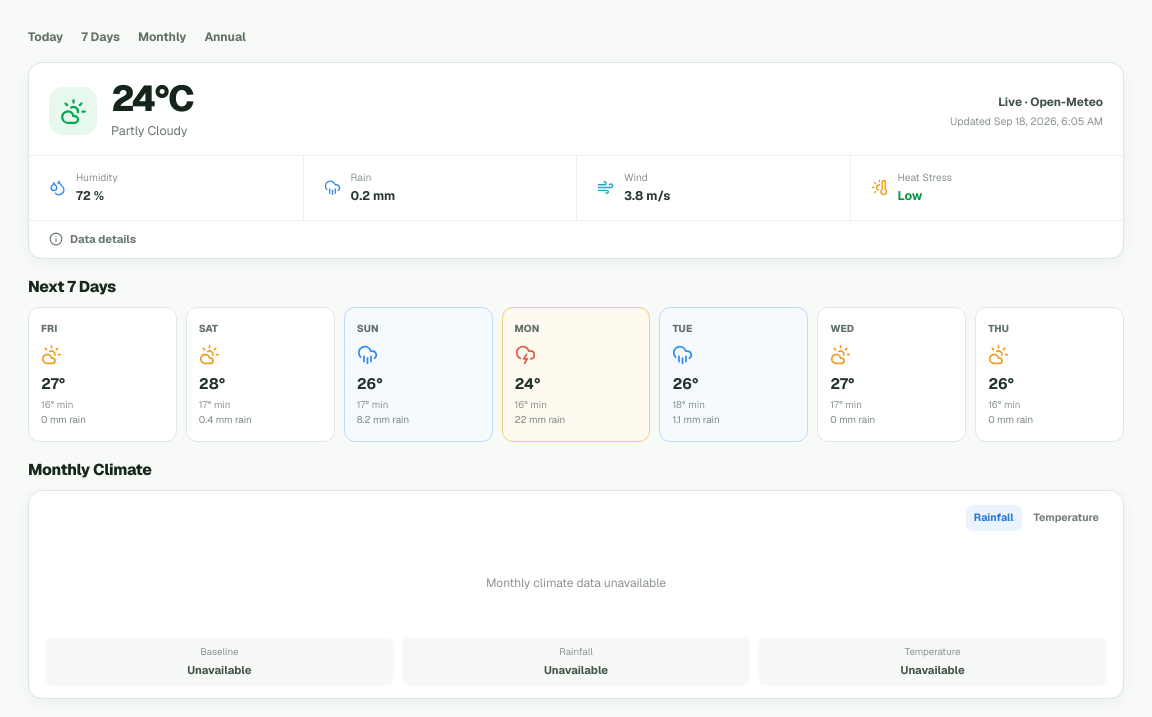
ClimateOverview › renders current provider values, WMO condition, and provenance
Expected: the heading "24°C" is shown, 111,81 -> 193,117
Expected: the text "Partly Cloudy" is shown, 111,122 -> 193,141
Click the heading "Data details" at x=92, y=239, box 49,232 -> 136,246
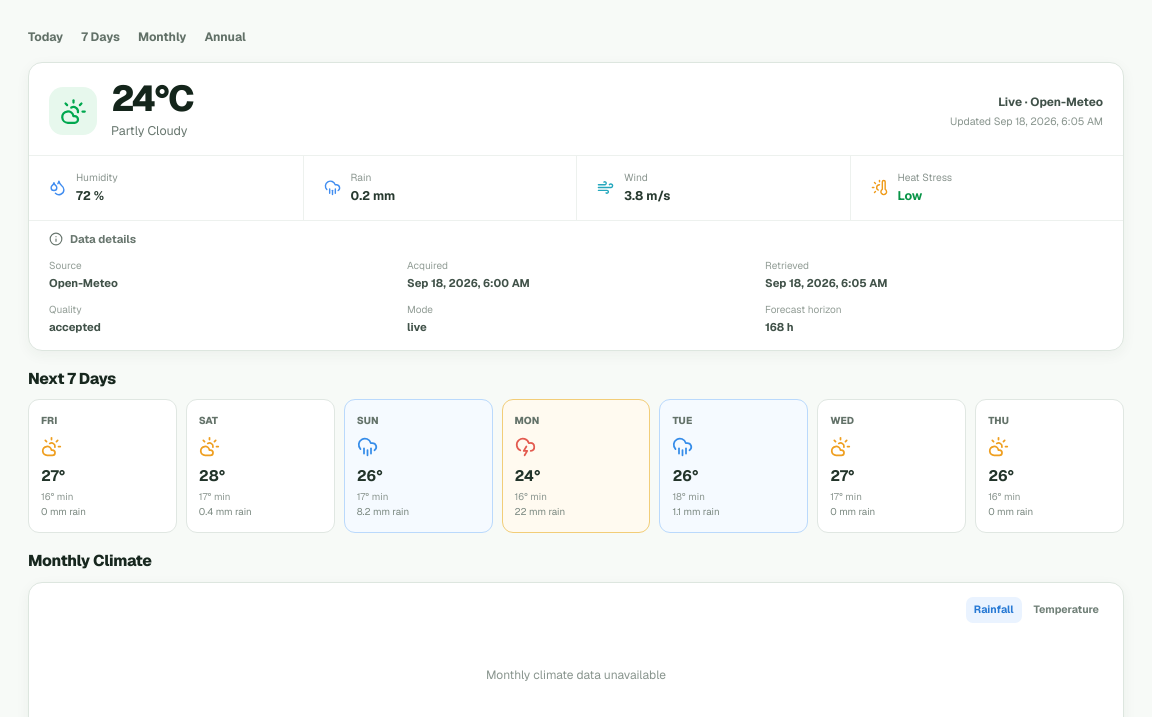
Expected: the text "Open-Meteo" is shown, 49,276 -> 118,290
Expected: the text "168 h" is shown, 765,320 -> 794,334
